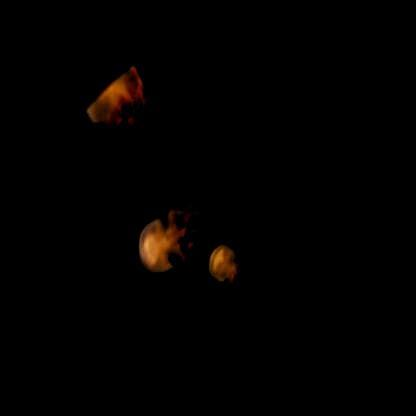LightHouse: (81, 67, 169, 161), (138, 198, 226, 280), (209, 245, 268, 305)
